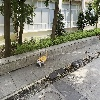fire: (38, 49, 47, 62)
